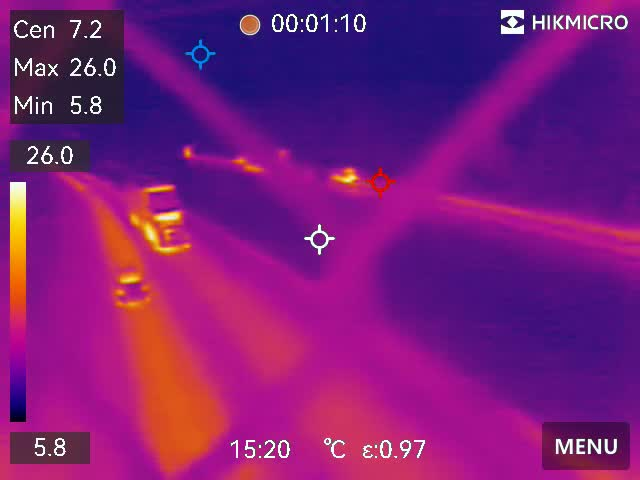heavyTruck: (123, 180, 197, 254)
vehicle: (111, 269, 160, 306)
